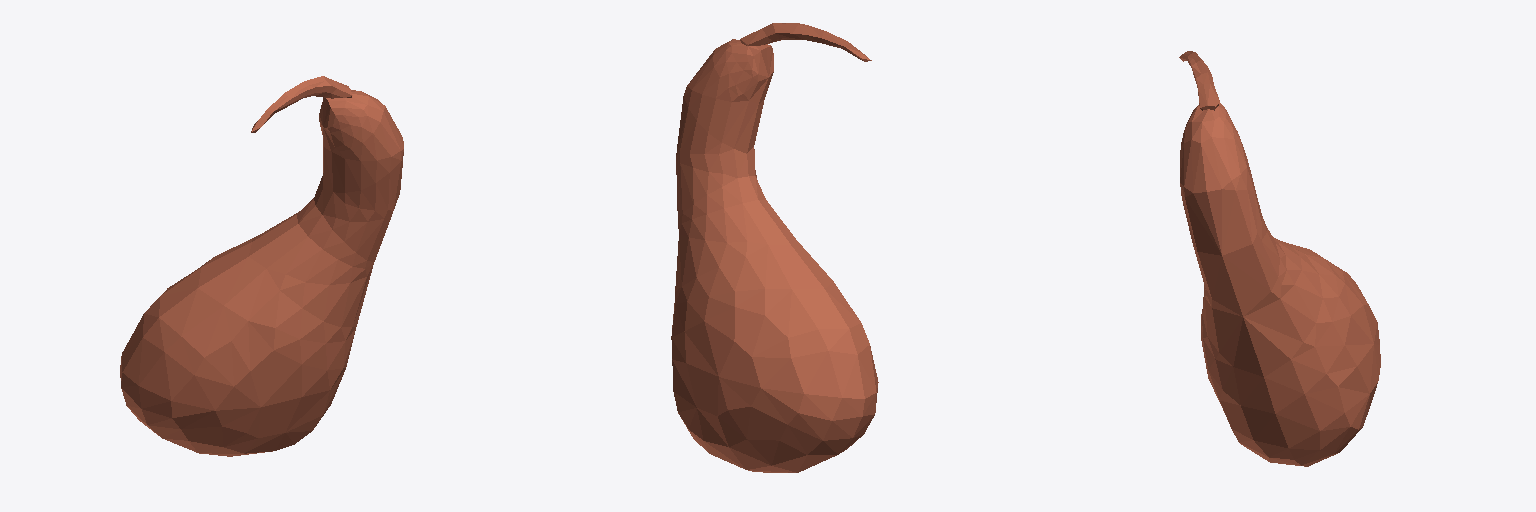
File: gourd.obj
The picture shows the model from 3 angles: view 1: azimuth 30°, elevation 25°; view 2: azimuth 150°, elevation 25°; view 3: azimuth 270°, elevation 25°; orthographic projection.
Bounding box in the file's own units: 1.91 × 3.18 × 1.44.